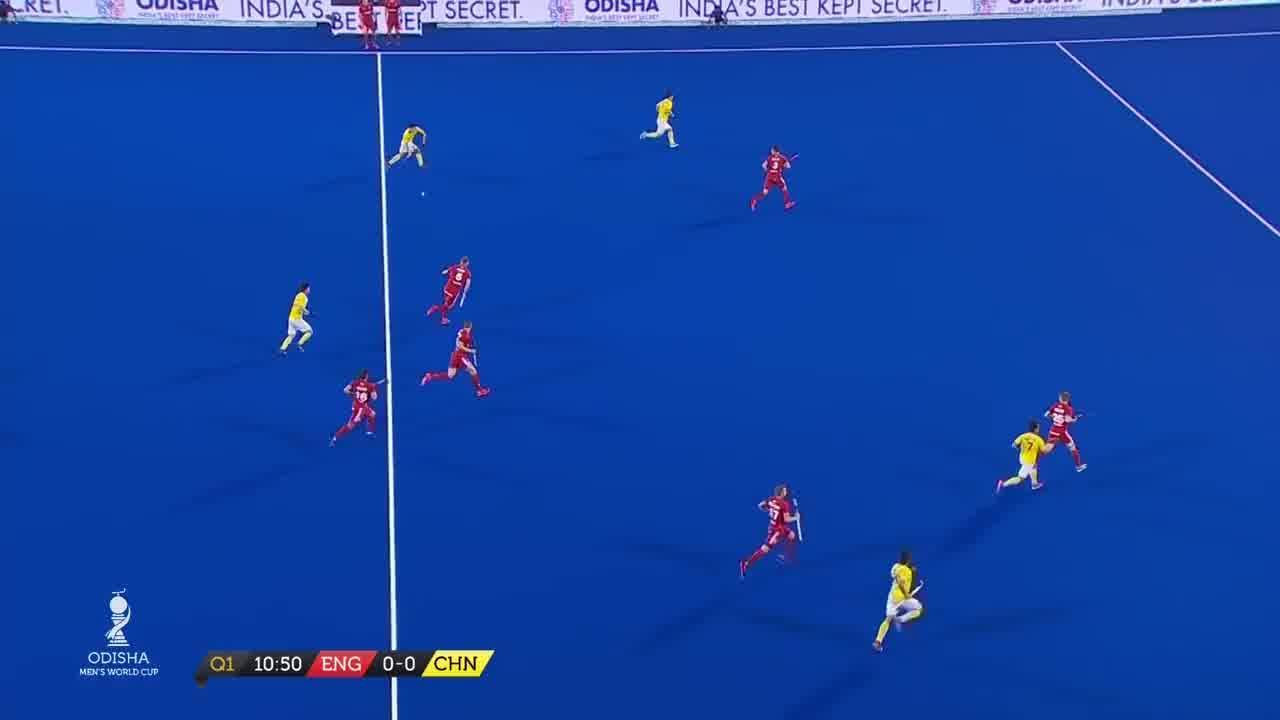ball: (418, 188, 430, 199)
